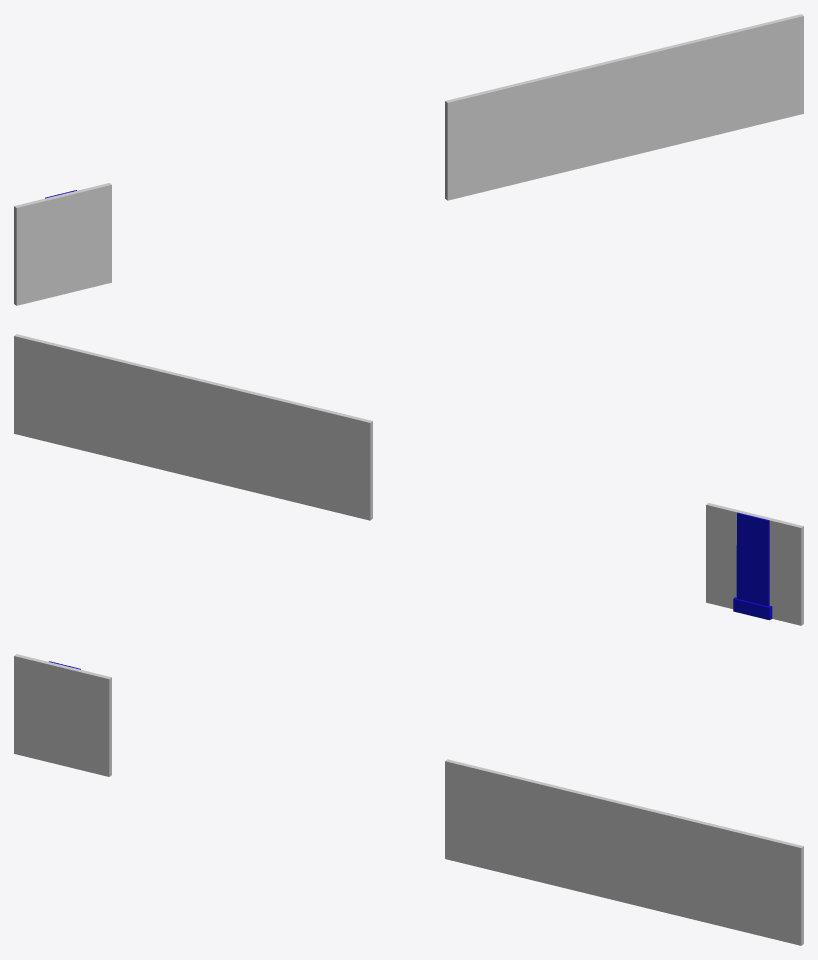
File: R1Wall1South.fbx
3 views of the same model, one above another, from view 1: azimuth 30°, elevation 25°; view 2: azimuth 150°, elevation 25°; view 3: azimuth 330°, elevation 25° (orthographic).
Parts seen in each view (by area): view 1: Cube.033; view 2: Cube.033; view 3: Cube.033.
Boxes of the visible parts, box(x1,y1,x2,y2) form: Cube.033: box(14, 14, 803, 305); Cube.033: box(14, 334, 803, 625); Cube.033: box(14, 654, 803, 945).
Size of the model in its own units: 3032 by 360 by 32.51.
